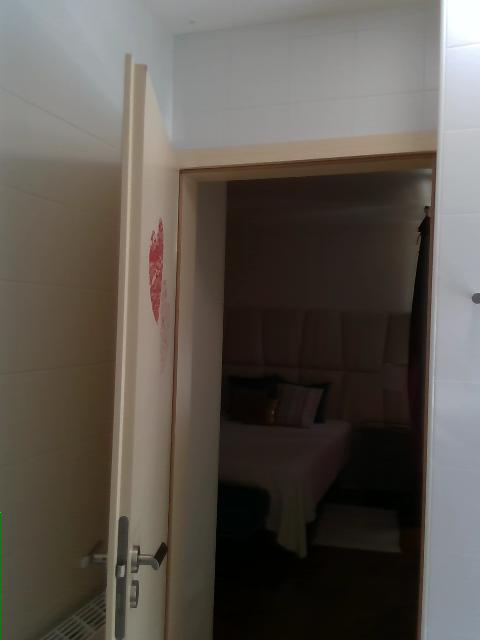open_door: (162, 125, 438, 639)
